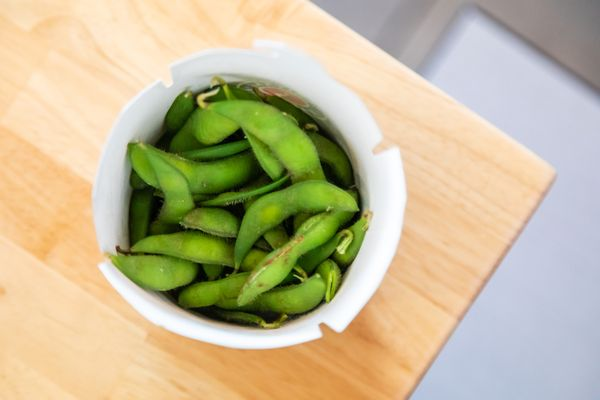sushi: (91, 37, 408, 350)
